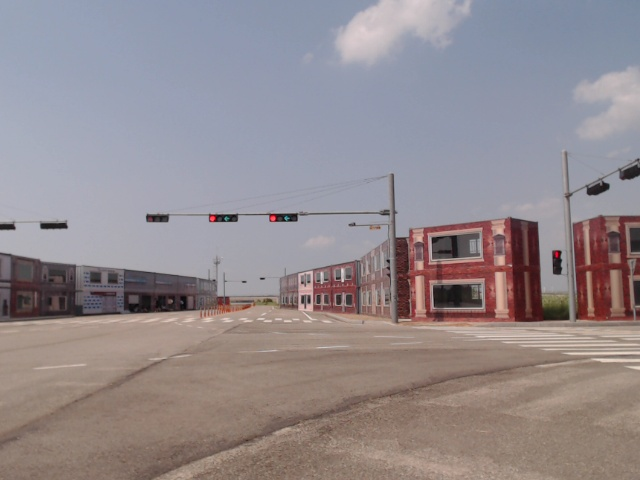left_green_4: (269, 214, 298, 222), (210, 215, 238, 222)
